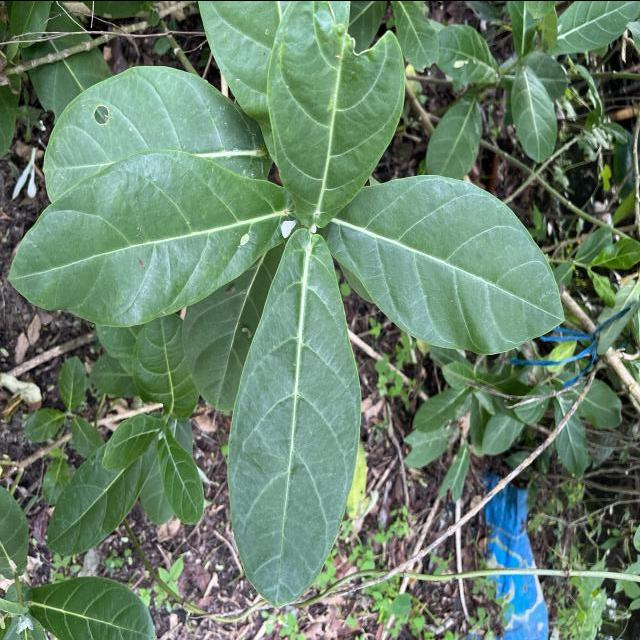Calotropis gigantea: (4, 146, 295, 328), (225, 226, 362, 610), (323, 171, 570, 357), (41, 63, 270, 174), (46, 442, 156, 556), (21, 574, 159, 640), (424, 86, 484, 180), (154, 426, 206, 524), (549, 0, 640, 54), (510, 64, 560, 162), (432, 23, 499, 84)
